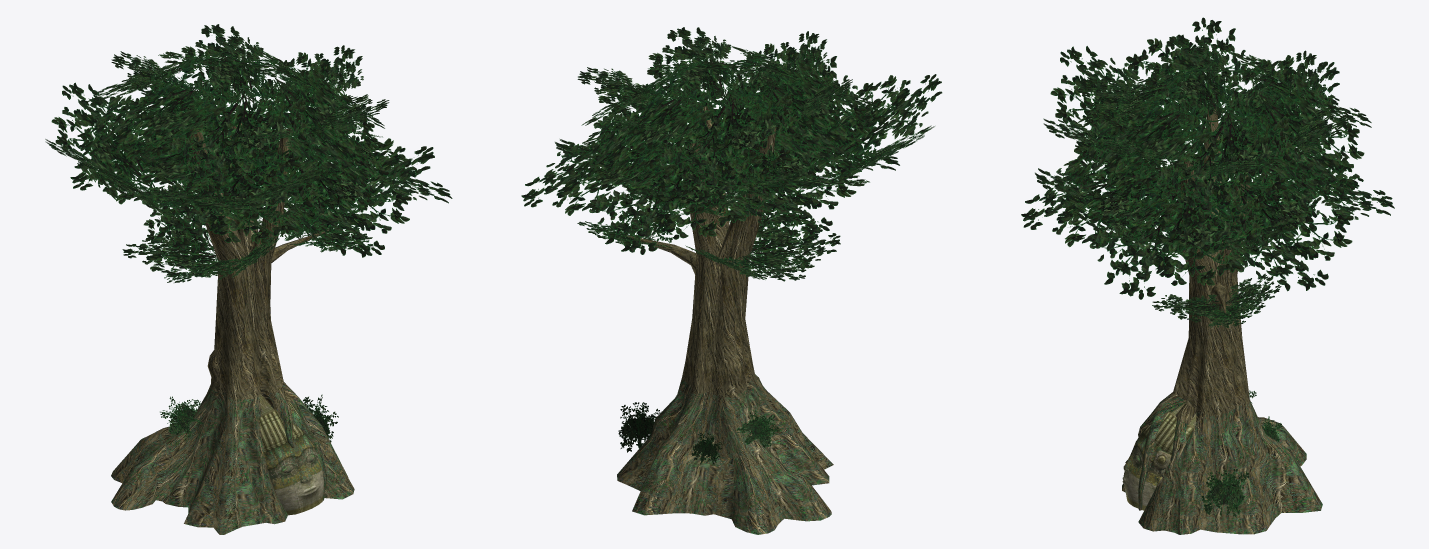
The model's file is swmp_decd_sacredtree_l0.fbx.
3 views of the same model, side by side, from view 1: azimuth 30°, elevation 25°; view 2: azimuth 150°, elevation 25°; view 3: azimuth 270°, elevation 25° (orthographic). The views are drawn at different scales.
Visible parts, largest first — view 1: mesh_node; view 2: mesh_node; view 3: mesh_node.
Boxes of the visible parts, box(x1,y1,x2,y2) form: mesh_node: box(45, 24, 452, 534); mesh_node: box(521, 27, 942, 534); mesh_node: box(1021, 17, 1394, 534).
Bounding box in the file's own units: 40.53 × 41.88 × 37.48.
